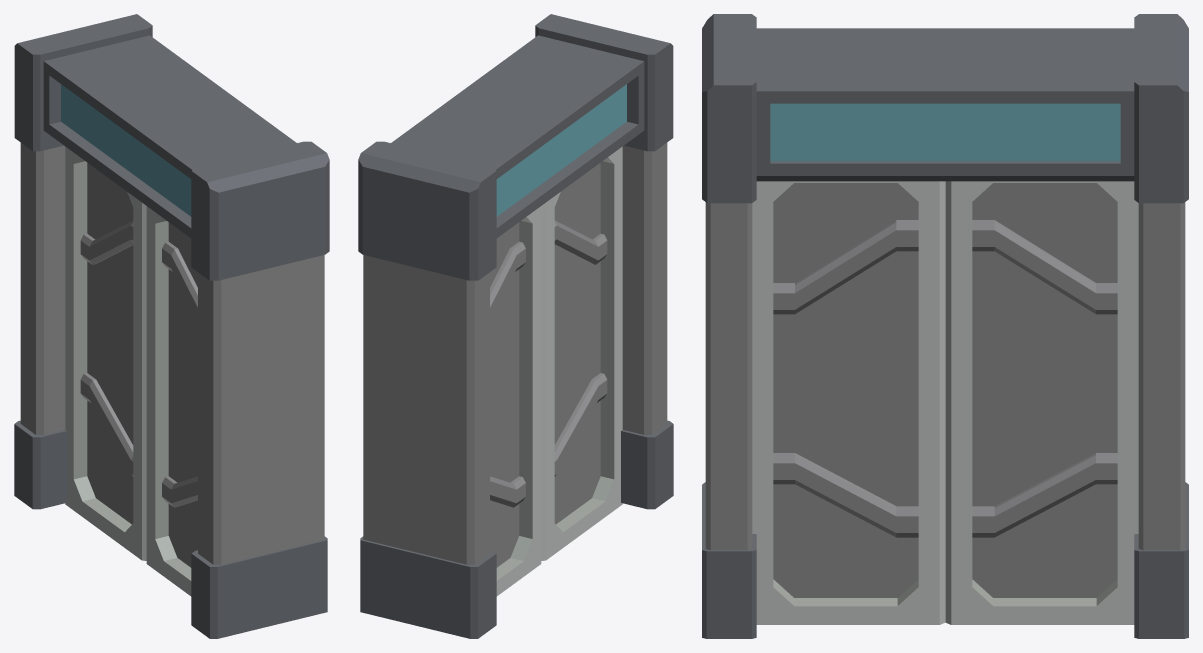
Rendered from SM_GameArea_Door_01.fbx.
3 renders of one model, left to right at view 1: azimuth 30°, elevation 25°; view 2: azimuth 150°, elevation 25°; view 3: azimuth 270°, elevation 25°, orthographic. The views are drawn at different scales.
Visible parts, largest first — view 1: SM_GameArea_Door_01; view 2: SM_GameArea_Door_01; view 3: SM_GameArea_Door_01.
Boxes of the visible parts, <box> form: SM_GameArea_Door_01: <box>14,14,329,638</box>; SM_GameArea_Door_01: <box>358,14,673,638</box>; SM_GameArea_Door_01: <box>702,14,1188,638</box>.
Size of the model in its own units: 3.34 by 12.15 by 9.6.
1 material, 1 textured.
